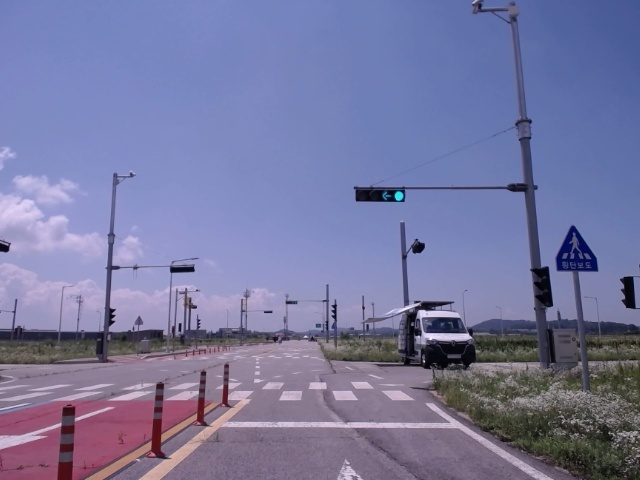all_green_4: (359, 188, 406, 204)
